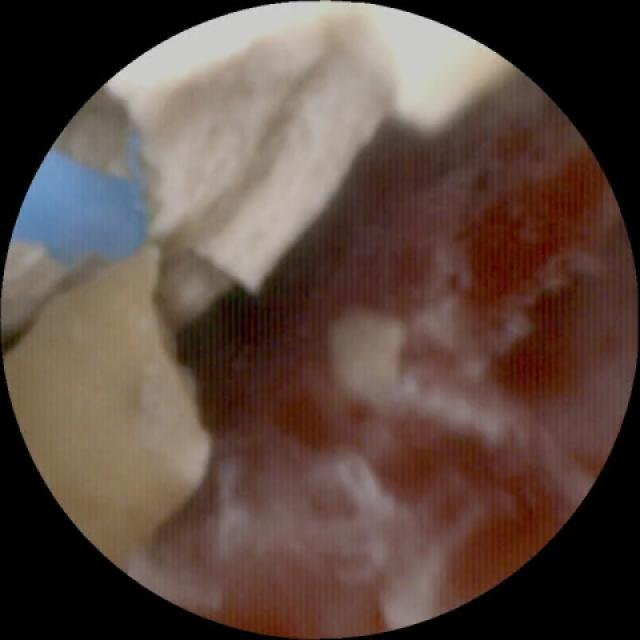fiber: (24, 156, 137, 257)
stone: (71, 3, 509, 328), (8, 262, 208, 561), (331, 306, 409, 406)
tissue: (187, 96, 627, 627)
